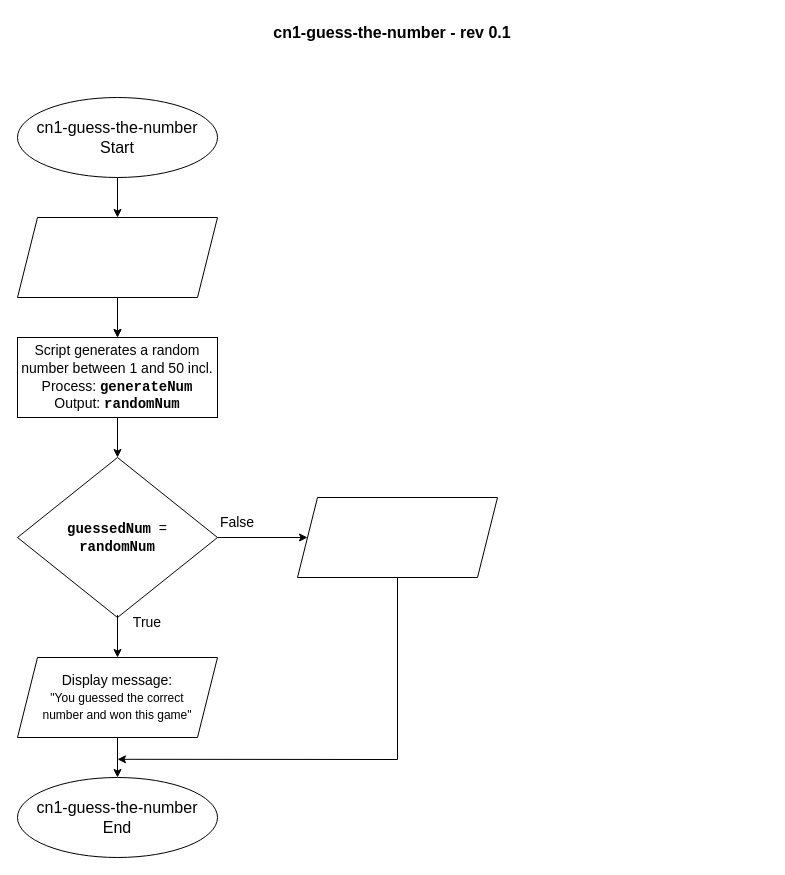
The diagram is 785 pixels wide and 875 high, and some of its shapes have lost their labels. Here are the shapes that lost their labels. From the top down, the box of each, then its label:
(16, 216, 218, 298): User enters a guessed number Variable: guessedNum
(296, 496, 498, 578): Display message: "You didn't guess the correct number and lost this game"
